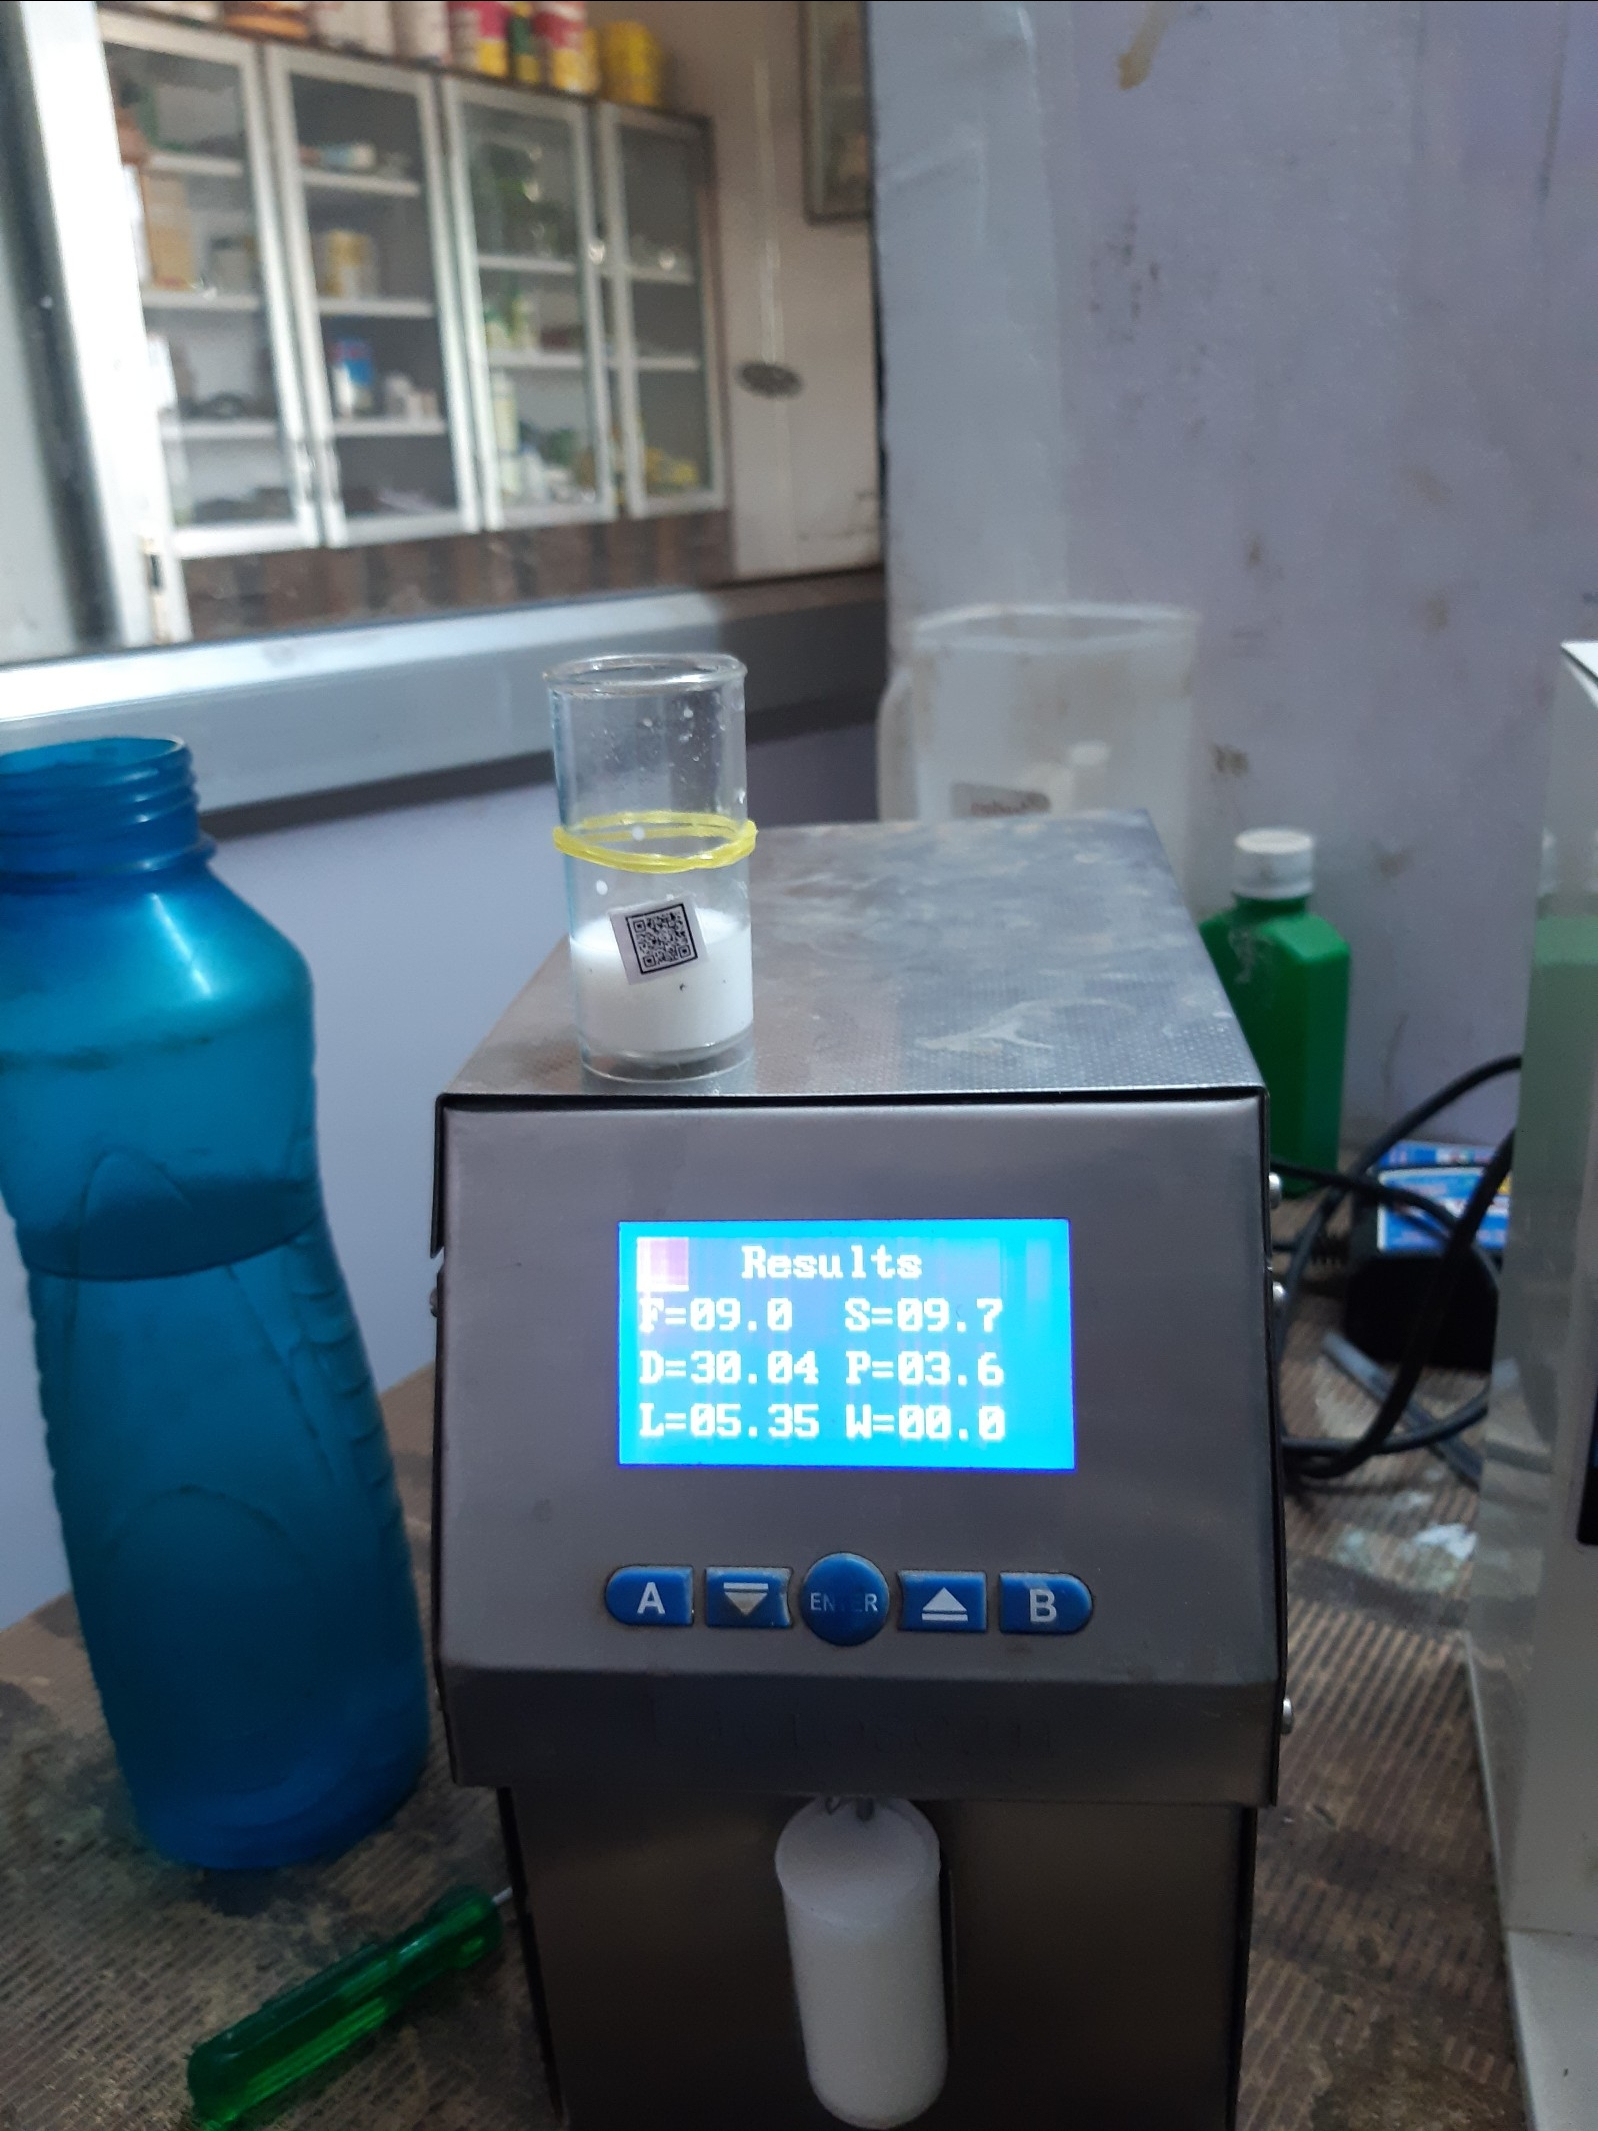lcd: (599, 1210, 1089, 1492)
qr: (603, 898, 718, 992)
